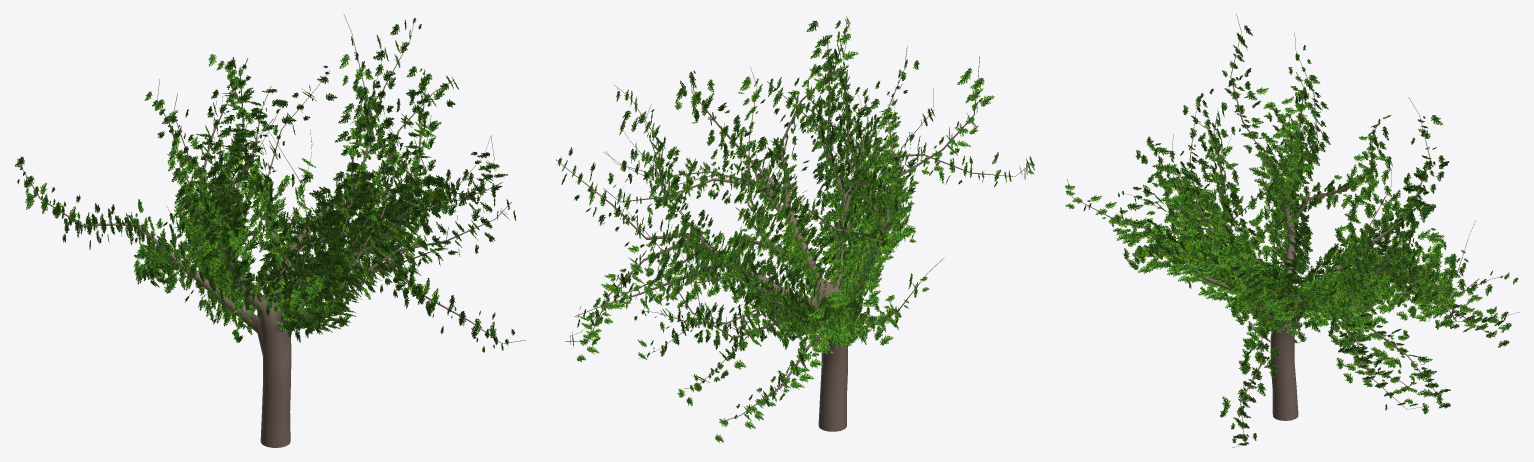
3 views of the same model, side by side, from view 1: azimuth 30°, elevation 25°; view 2: azimuth 150°, elevation 25°; view 3: azimuth 270°, elevation 25° (orthographic). The views are drawn at different scales.
Visible parts, largest first — view 1: tree.001; view 2: tree.001; view 3: tree.001.
Part boxes in pixels (box(x1,y1,x2,y2)): tree.001: box(15, 14, 525, 447); tree.001: box(555, 16, 1034, 442); tree.001: box(1065, 14, 1519, 447).
Bounding box in the file's own units: 5683 × 5125 × 6084.
